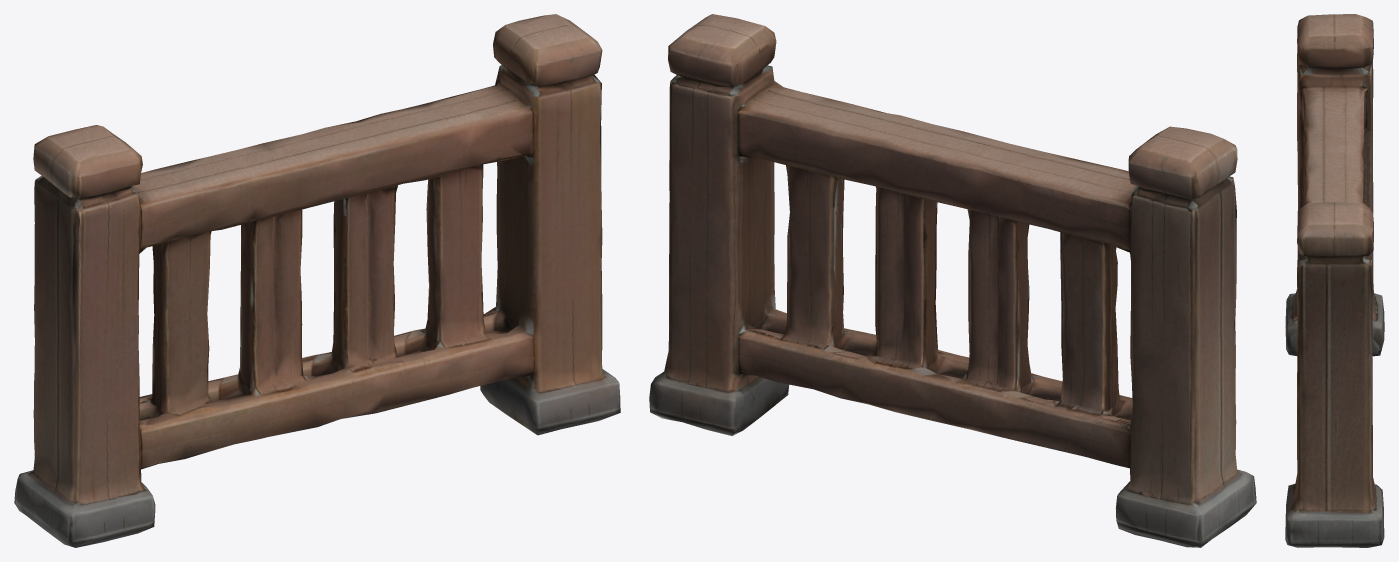
3 views of the same model, side by side, from view 1: azimuth 30°, elevation 25°; view 2: azimuth 150°, elevation 25°; view 3: azimuth 270°, elevation 25° (orthographic). The views are drawn at different scales.
Parts seen in each view (by area): view 1: texture_mapping; view 2: texture_mapping; view 3: texture_mapping.
Boxes of the visible parts, x1,y1,x2,y2 form: texture_mapping: [14, 14, 620, 547]; texture_mapping: [649, 14, 1256, 547]; texture_mapping: [1285, 14, 1384, 547].
Bounding box in the file's own units: 0.9873 × 0.6466 × 0.1818.
Materials: 1 (1 with a texture image).
